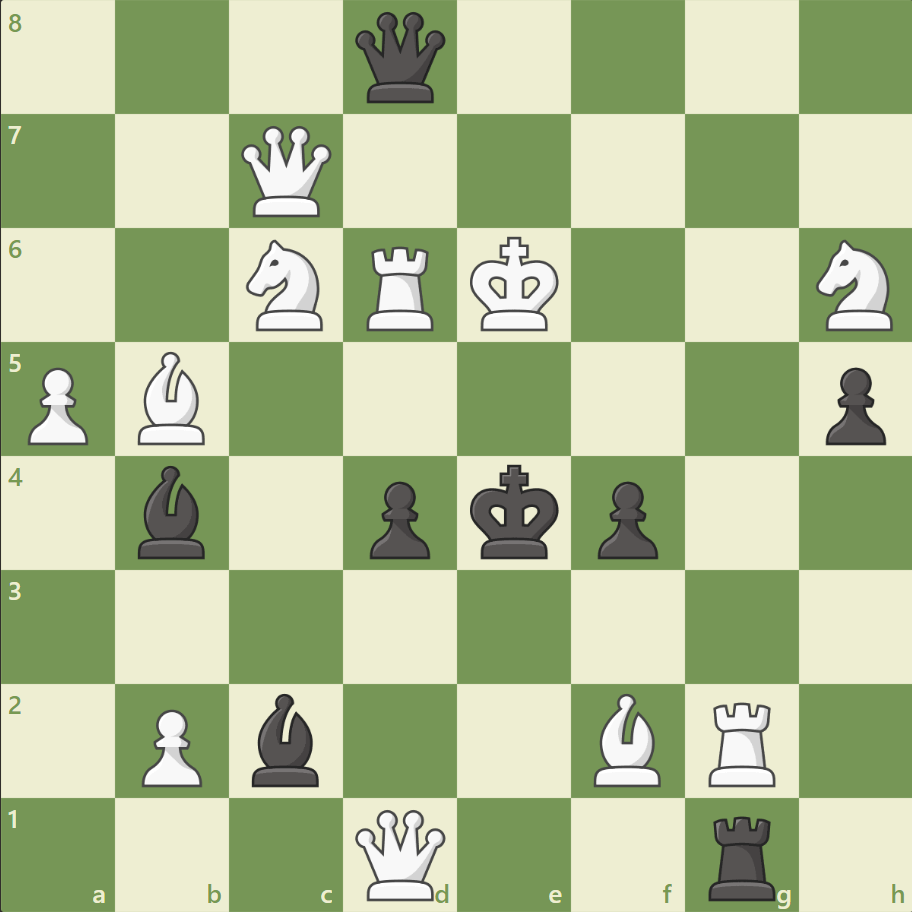B: (585, 687, 669, 790), (131, 347, 215, 449)
K: (465, 231, 565, 339)
N: (238, 234, 335, 337), (806, 234, 903, 337)
P: (20, 359, 95, 450), (133, 700, 208, 791)
Q: (237, 122, 336, 222), (351, 804, 450, 903)
R: (700, 693, 783, 790), (360, 239, 442, 336)
b: (131, 460, 215, 563), (244, 687, 328, 790)
k: (465, 458, 565, 566)
p: (815, 359, 889, 450), (361, 473, 435, 564), (588, 473, 662, 564)
q: (351, 9, 450, 108)
r: (700, 806, 783, 904)
